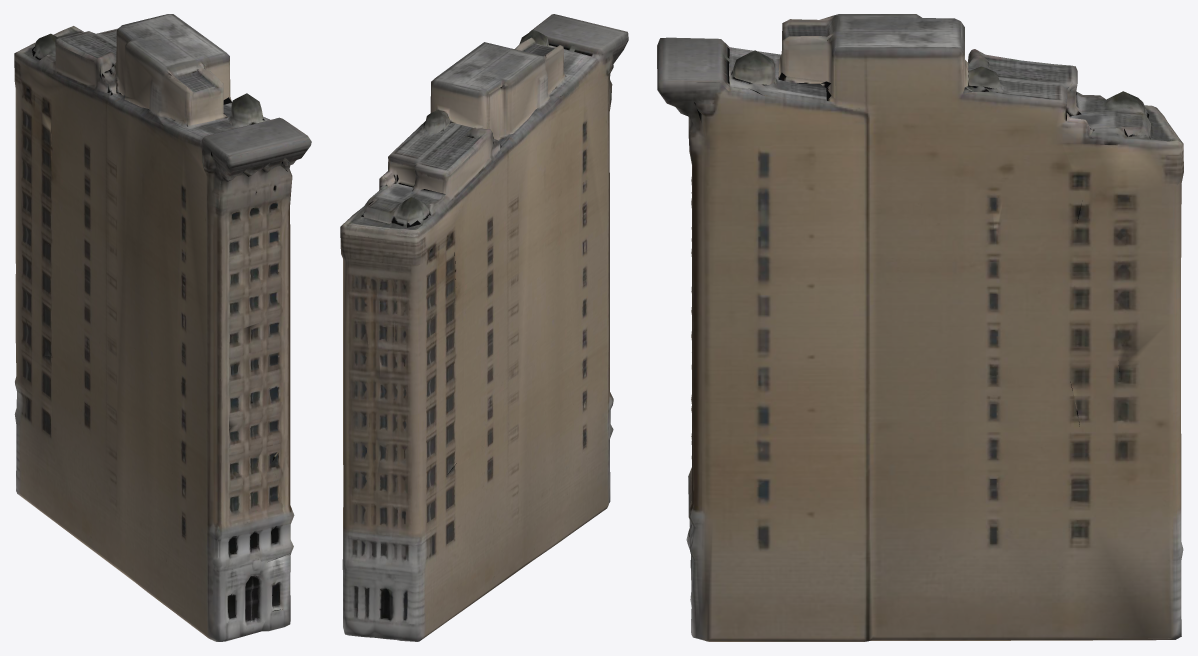
File: lakeview_building_116_s_michigan.glb
The picture shows the model from 3 angles, left to right: view 1: azimuth 30°, elevation 25°; view 2: azimuth 150°, elevation 25°; view 3: azimuth 270°, elevation 25°; orthographic projection. The views are drawn at different scales.
Parts seen in each view (by area): view 1: lakeview_building_116_s_michigan; view 2: lakeview_building_116_s_michigan; view 3: lakeview_building_116_s_michigan.
Boxes of the visible parts, x1=… form: lakeview_building_116_s_michigan: x1=14, y1=14, x2=311, y2=641; lakeview_building_116_s_michigan: x1=340, y1=14, x2=628, y2=641; lakeview_building_116_s_michigan: x1=657, y1=14, x2=1183, y2=641.
Size of the model in its own units: 11 by 64.6 by 52.
Materials: 1 (1 with a texture image).
